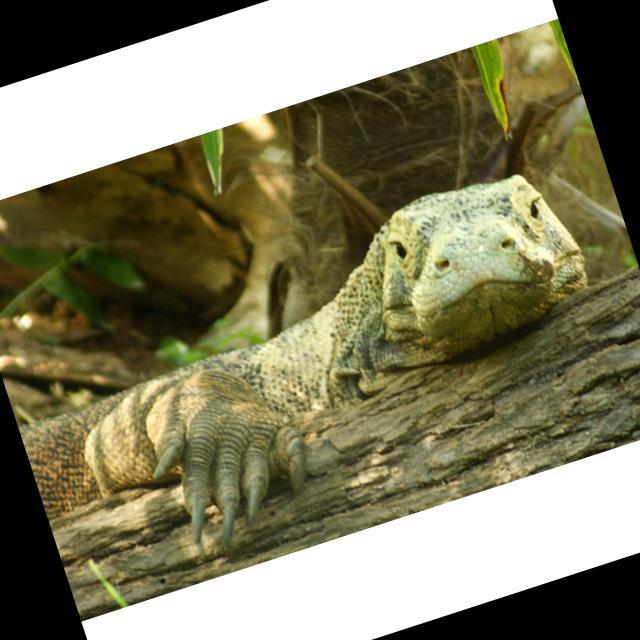KomodoDragon: (0, 152, 636, 596)
